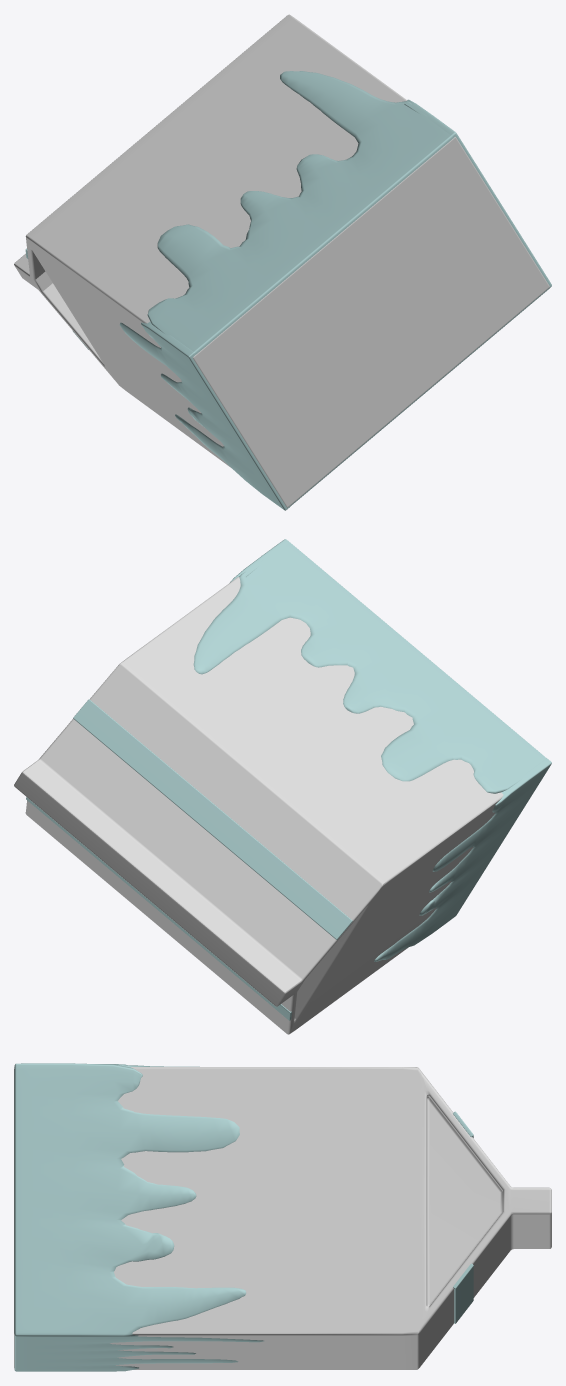
3 views of the same model, one above another, from view 1: azimuth 30°, elevation 25°; view 2: azimuth 150°, elevation 25°; view 3: azimuth 270°, elevation 25° (orthographic). The views are drawn at different scales.
Visible parts, largest first — view 1: niunai; view 2: niunai; view 3: niunai.
Part boxes in pixels (x1,y1,x2,y2): niunai: (14,14,551,510); niunai: (14,539,551,1034); niunai: (14,1063,551,1371).
Size of the model in its own units: 10.75 by 9.52 by 11.37.
